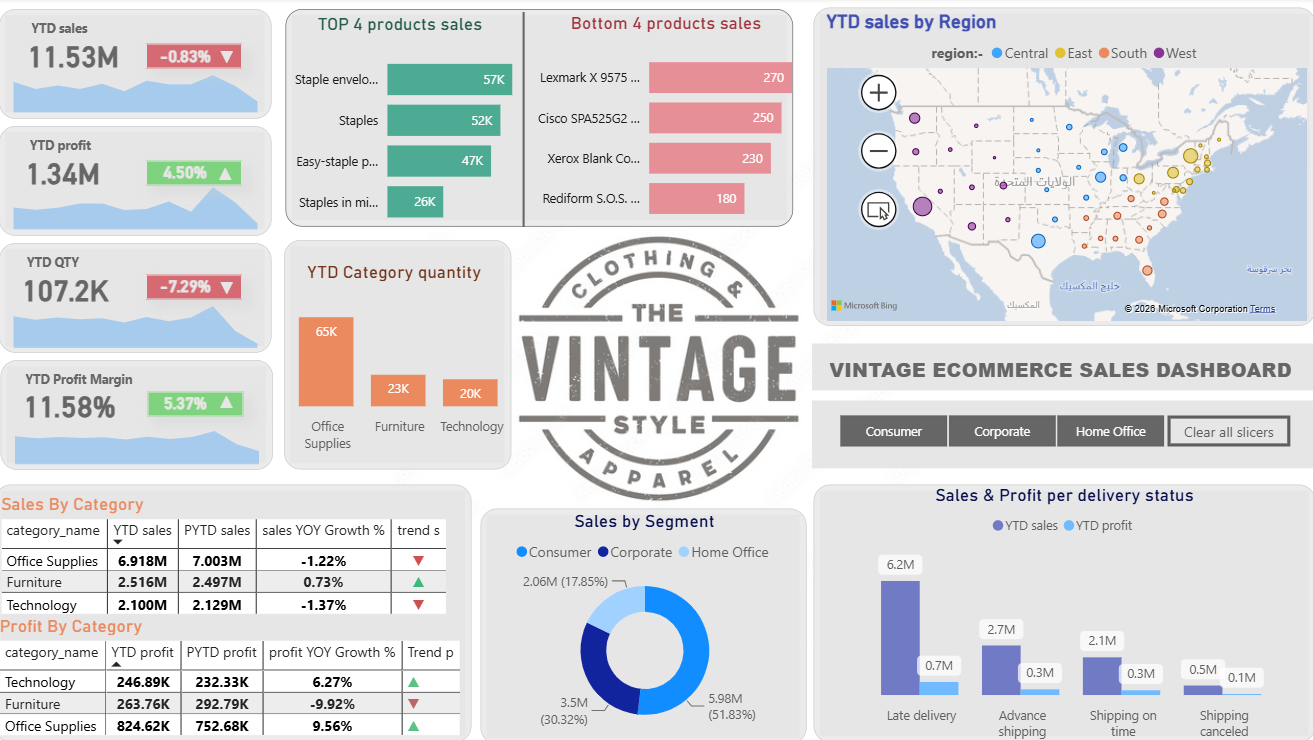

What the dashboard file says about the page in this screenshot:
{"tool":"powerbi","page":{"name":"Page 1","canvas":[1280,720],"ordinal":0},"visuals":[{"type":"shape","box":[9,11,261,105],"z":0},{"type":"card","fields":{"Values":["AMeasures.YTD sales"]},"box":[16,35,127,42],"z":1000},{"type":"areaChart","fields":{"Category":["Calendar.Month"],"Y":["Sum(ecommerce_data.sales_per_order)"]},"box":[9,55,261,61],"z":2000},{"type":"shape","box":[150,45,92,24],"z":3000},{"type":"card","fields":{"Values":["AMeasures.Sales Icon"]},"box":[205,45,42,27],"z":4000},{"type":"card","fields":{"Values":["AMeasures.YOY Growth %"]},"box":[146,42,80,23],"z":5000},{"type":"textbox","box":[34,14,66,31],"z":6000},{"type":"shape","box":[8,123,261,105],"z":7000},{"type":"card","fields":{"Values":["AMeasures.YTD profit"]},"box":[6,147,127,42],"z":8000},{"type":"areaChart","fields":{"Category":["Calendar.Month"],"Y":["Sum(ecommerce_data.profit_per_order)"]},"box":[8,167,261,61],"z":9000},{"type":"shape","box":[149,157,92,24],"z":10000},{"type":"card","fields":{"Values":["AMeasures.profit Icon"]},"box":[204,157,42,27],"z":11000},{"type":"card","fields":{"Values":["AMeasures.profit YOY Growth %"]},"box":[146,156,80,27],"z":12000},{"type":"textbox","box":[33,126,83,31],"z":13000},{"type":"shape","box":[9,236,261,105],"z":14000},{"type":"card","fields":{"Values":["AMeasures.YTD quantity"]},"box":[6,254,132,51],"z":15000},{"type":"areaChart","fields":{"Category":["Calendar.Month"],"Y":["Sum(ecommerce_data.order_quantity)"]},"box":[9,280,261,61],"z":16000},{"type":"shape","box":[150,266,92,24],"z":17000},{"type":"card","fields":{"Values":["AMeasures.Quantity Icon"]},"box":[205,266,42,27],"z":18000},{"type":"card","fields":{"Values":["AMeasures.Quantity YOY Growth %"]},"box":[146,265,80,27],"z":19000},{"type":"textbox","box":[30,239,83,31],"z":20000},{"type":"shape","box":[10,348,261,105],"z":21000},{"type":"card","fields":{"Values":["AMeasures.YTD profit Margin"]},"box":[6,367,140,48],"z":22000},{"type":"areaChart","fields":{"Category":["Calendar.Month"],"Y":["Sum(ecommerce_data.order_quantity)","AMeasures.profit margin"]},"box":[10,392,261,61],"z":23000},{"type":"shape","box":[151,378,92,24],"z":24000},{"type":"card","fields":{"Values":["AMeasures.profit Margin Icon"]},"box":[205.4,375.8,41.3,25.4],"z":25000},{"type":"card","fields":{"Values":["AMeasures.profit Margin YOY Growth %"]},"box":[146,377,80,27],"z":26000},{"type":"textbox","box":[29,351,129,31],"z":27000},{"type":"shape","box":[5,467.5,457.5,247.5],"z":28000},{"type":"pivotTable","title":"Sales By Category","fields":{"Values":["AMeasures.YTD sales","AMeasures.PYTD sales","AMeasures.sales YOY Growth %","AMeasures.Sales Icon"],"Rows":["ecommerce_data.category_name"]},"box":[5.8,476.6,456.2,128.4],"z":29000},{"type":"shape","box":[283.3,11.1,486.7,208.9],"z":30000},{"type":"shape","box":[282.2,233.3,217.8,220],"z":31000},{"type":"shape","box":[788.8,9.7,481.5,305.4],"z":32000},{"type":"shape","box":[790,467.5,481.2,247.5],"z":33000},{"type":"shape","box":[470,490,312.5,226.2],"z":34000},{"type":"map","title":"YTD sales by  Region","fields":{"Y":["us_state_long_lat_codes.latitude"],"X":["us_state_long_lat_codes.longitude"],"Size":["AMeasures.YTD sales"],"Series":["ecommerce_data.customer_region"]},"box":[796.6,12.6,470.8,302.5],"z":35000},{"type":"barChart","title":"TOP 4  products sales ","fields":{"Category":["ecommerce_data.product_name"],"Y":["AMeasures.YTD sales"]},"box":[275,15.3,236.8,217.2],"z":36000},{"type":"barChart","title":"Bottom 4  products sales ","fields":{"Category":["ecommerce_data.product_name"],"Y":["AMeasures.YTD sales"]},"box":[507.5,15,281.2,215],"z":37000},{"type":"shape","box":[375,13.8,272.5,206.2],"z":38000},{"type":"pivotTable","title":"Profit By Category","fields":{"Values":["AMeasures.YTD profit","AMeasures.PYTD profit","AMeasures.profit YOY Growth %","AMeasures.profit Icon"],"Rows":["ecommerce_data.category_name"]},"box":[5,592.5,468.8,127.5],"z":39000},{"type":"donutChart","title":"Sales by Segment","fields":{"Y":["AMeasures.YTD sales"],"Category":["ecommerce_data.customer_segment"]},"box":[473.8,492.5,308.8,220],"z":40000},{"type":"columnChart","title":"YTD Category quantity ","fields":{"Category":["ecommerce_data.category_name"],"Y":["AMeasures.YTD quantity"]},"box":[252.5,253.8,268.8,190],"z":41000},{"type":"lineClusteredColumnComboChart","title":"Sales & Profit per delivery status","fields":{"Category":["ecommerce_data.delivery_status"],"Y":["AMeasures.YTD sales","AMeasures.YTD profit"]},"box":[795,467.5,470,252.5],"z":42000},{"type":"shape","box":[788.8,386.2,481.2,65],"z":43000},{"type":"slicer","fields":{"Values":["ecommerce_data.customer_segment"]},"box":[790,393.9,360.1,43.6],"z":44000},{"type":"shape","box":[788.8,332.7,481.2,45],"z":45000},{"type":"textbox","box":[800,337.7,460,40],"z":46000},{"type":"actionButton","box":[1129.2,400.6,117.8,29.7],"z":47000}]}

Visuals, with their boxes in screenshot pixels (x1, y1, x2, y2), scaled from the page's 1280x720 canvas onto the 1313x740 screenshot:
shape: 9:11:277:119
card - AMeasures.YTD sales: 16:36:147:79
areaChart - Calendar.Month x Sum(ecommerce_data.sales_per_order): 9:57:277:119
shape: 154:46:248:71
card - AMeasures.Sales Icon: 210:46:253:74
card - AMeasures.YOY Growth %: 150:43:232:67
textbox: 35:14:103:46
shape: 8:126:276:234
card - AMeasures.YTD profit: 6:151:136:194
areaChart - Calendar.Month x Sum(ecommerce_data.profit_per_order): 8:172:276:234
shape: 153:161:247:186
card - AMeasures.profit Icon: 209:161:252:189
card - AMeasures.profit YOY Growth %: 150:160:232:188
textbox: 34:130:119:161
shape: 9:243:277:350
card - AMeasures.YTD quantity: 6:261:142:313
areaChart - Calendar.Month x Sum(ecommerce_data.order_quantity): 9:288:277:350
shape: 154:273:248:298
card - AMeasures.Quantity Icon: 210:273:253:301
card - AMeasures.Quantity YOY Growth %: 150:272:232:300
textbox: 31:246:116:278
shape: 10:358:278:466
card - AMeasures.YTD profit Margin: 6:377:150:427
areaChart - Calendar.Month x Sum(ecommerce_data.order_quantity): 10:403:278:466
shape: 155:388:249:413
card - AMeasures.profit Margin Icon: 211:386:253:412
card - AMeasures.profit Margin YOY Growth %: 150:387:232:415
textbox: 30:361:162:393
shape: 5:480:474:735
"Sales By Category" pivotTable: 6:490:474:622
shape: 291:11:790:226
shape: 289:240:513:466
shape: 809:10:1303:324
shape: 810:480:1304:735
shape: 482:504:803:736
"YTD sales by  Region" map: 817:13:1300:324
"TOP 4  products sales " barChart: 282:16:525:239
"Bottom 4  products sales " barChart: 521:15:809:236
shape: 385:14:664:226
"Profit By Category" pivotTable: 5:609:486:739
"Sales by Segment" donutChart: 486:506:803:732
"YTD Category quantity " columnChart: 259:261:535:456
"Sales & Profit per delivery status" lineClusteredColumnComboChart: 815:480:1298:739
shape: 809:397:1303:464
slicer - ecommerce_data.customer_segment: 810:405:1180:450
shape: 809:342:1303:388
textbox: 821:347:1292:388
actionButton: 1158:412:1279:442
